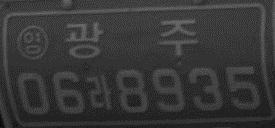0: (15, 70, 50, 115)
3: (187, 66, 223, 111)
5: (225, 65, 261, 110)
6: (52, 70, 85, 114)
8: (114, 69, 148, 114)
9: (150, 67, 185, 112)
광주_D: (64, 19, 199, 60)
라: (85, 74, 113, 112)
영: (15, 23, 50, 61)
